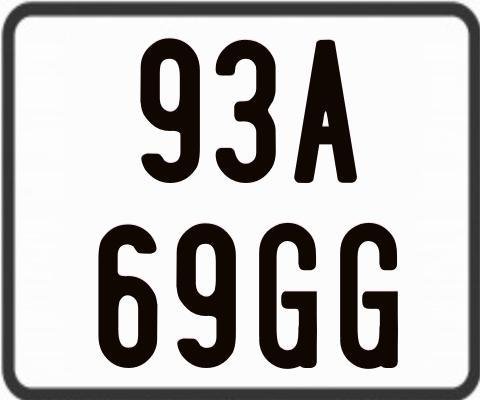3: (216, 38, 276, 187)
6: (97, 224, 160, 374)
9: (139, 35, 201, 184), (176, 221, 238, 368)
A: (291, 37, 356, 186)
G: (340, 222, 404, 374), (259, 223, 322, 374)
